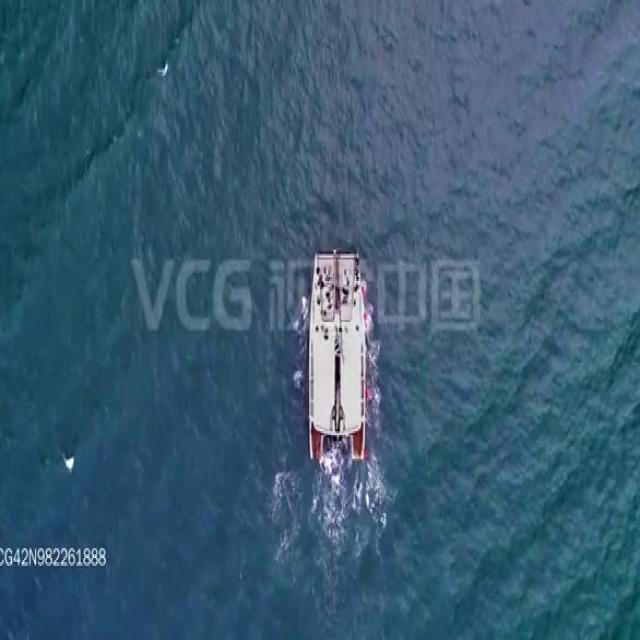houseboat: (307, 244, 370, 464)
